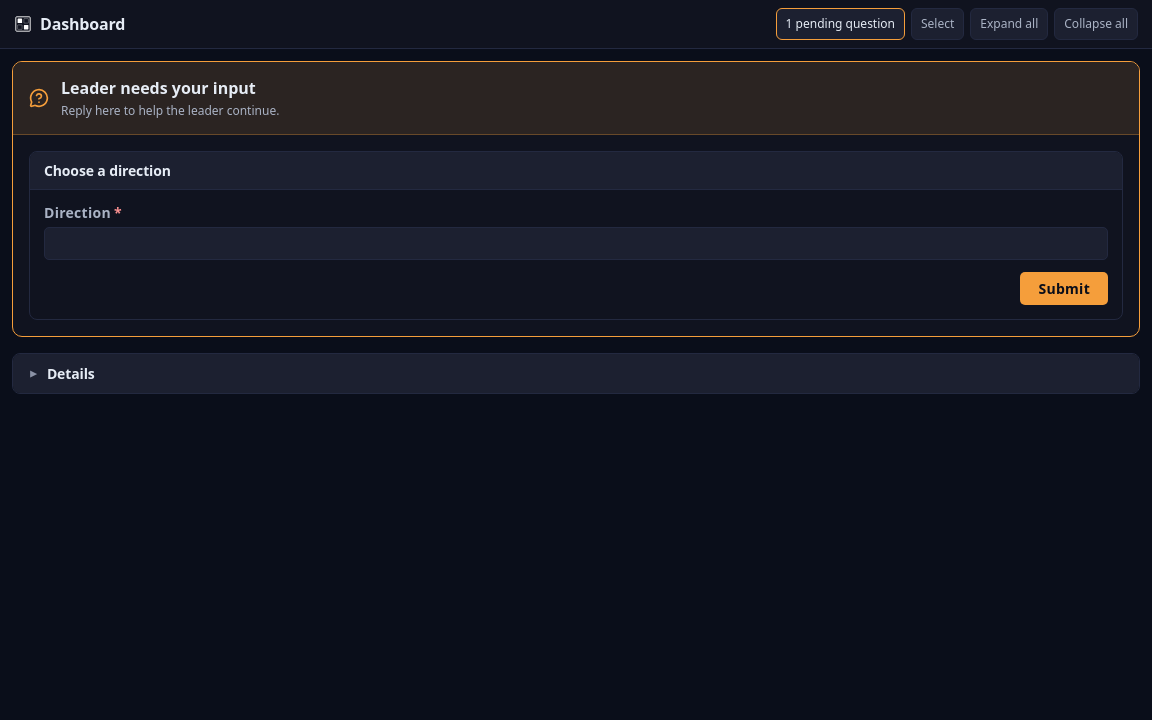
Scenario: DashboardSurface — prioritized questions › exposes questions in collapsed sections and inactive tabs without duplicating them
Expected: the field labelled "Direction" is shown, 44,227 -> 1108,260
What coordinates should you click on to do the following:
click the button with aria-label "expand all dashboard sections"
I would click on:
 (1009, 24)
Its box is 970,8 -> 1048,40.
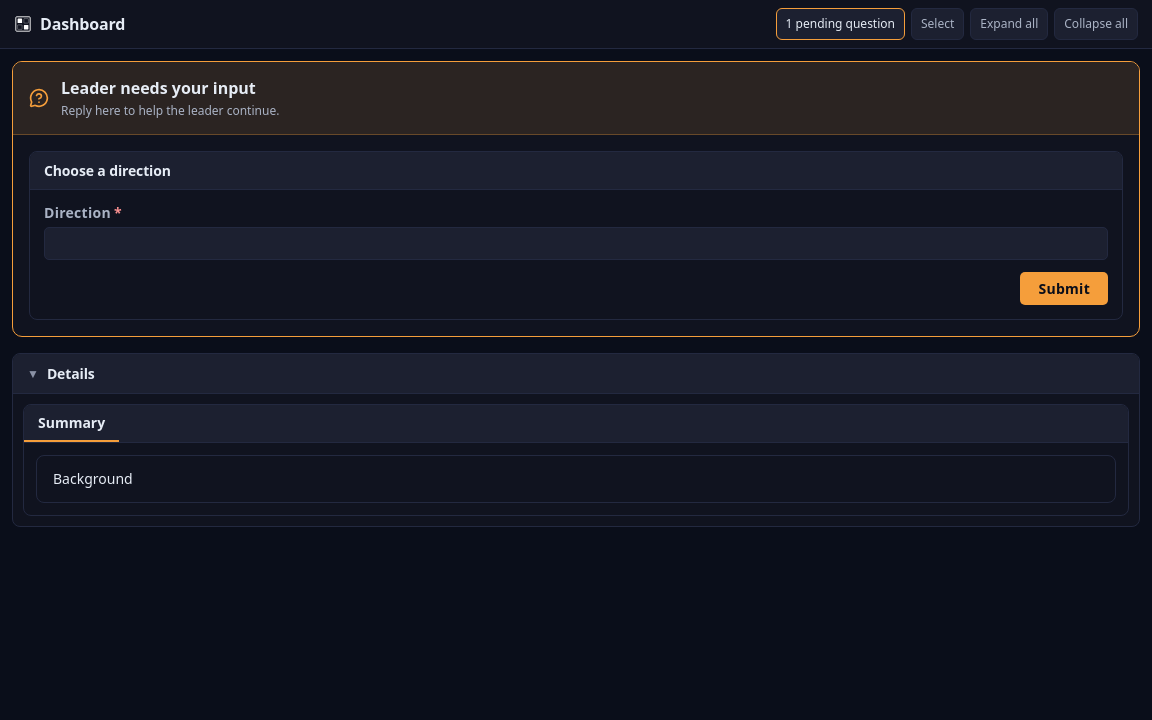
Expected: the number of fields labelled "Direction" is 1, 44,227 -> 1108,260
Now the text "Background" is shown, box 53,469 -> 133,488
